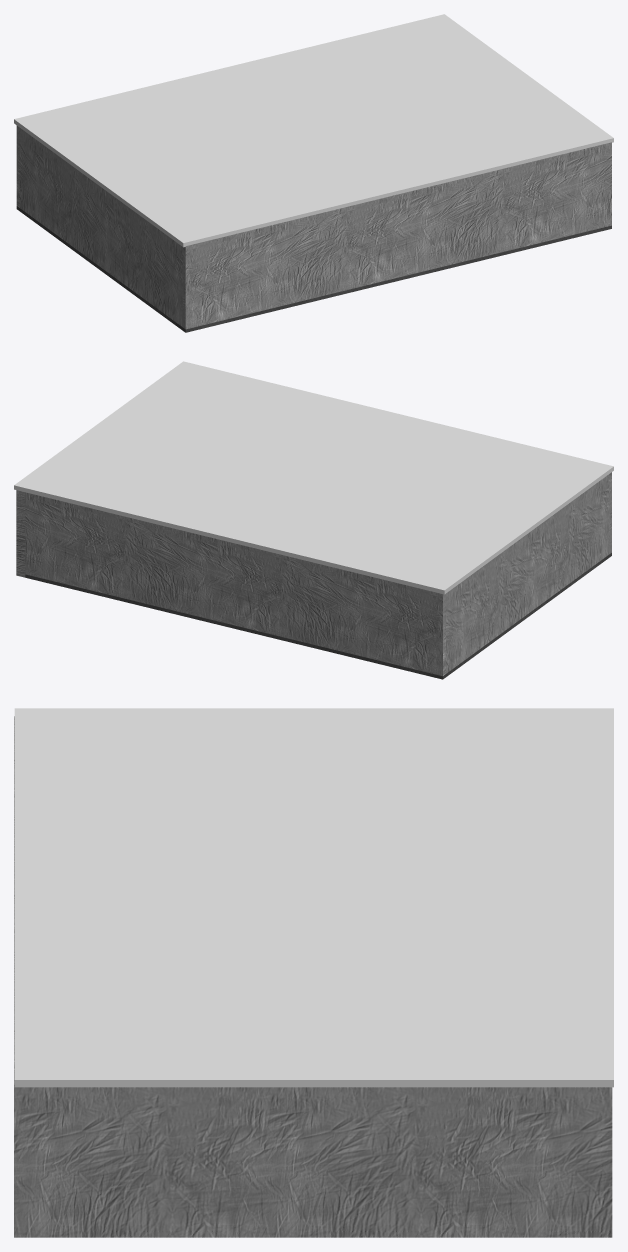
Rendered from galleryInGreyTile.glb.
The picture shows the model from 3 angles, top to bottom: view 1: azimuth 30°, elevation 25°; view 2: azimuth 150°, elevation 25°; view 3: azimuth 270°, elevation 25°; orthographic projection. The views are drawn at different scales.
Parts seen in each view (by area): view 1: ceiling, walls; view 2: ceiling, walls; view 3: ceiling, walls.
Boxes of the visible parts, x1=… form: ceiling: x1=14, y1=14, x2=613, y2=247; walls: x1=16, y1=125, x2=611, y2=332; ceiling: x1=14, y1=361, x2=613, y2=594; walls: x1=16, y1=472, x2=611, y2=679; ceiling: x1=14, y1=708, x2=613, y2=1087; walls: x1=14, y1=716, x2=612, y2=1237.
Size of the model in its own units: 29.39 by 5.87 by 20.05.
4 materials, 3 textured.
